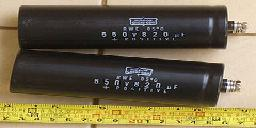Electrolytic-Capacitor: (9, 49, 249, 107), (16, 3, 251, 52)
